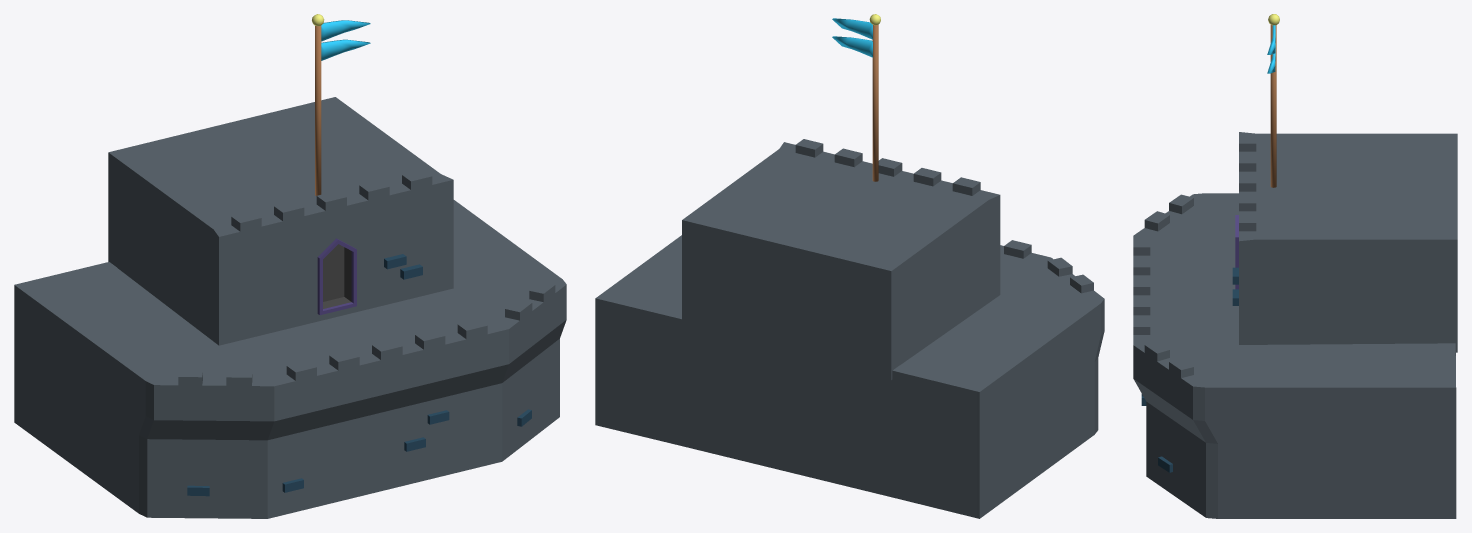
The model's file is castle.fbx.
3 renders of one model, left to right at view 1: azimuth 30°, elevation 25°; view 2: azimuth 150°, elevation 25°; view 3: azimuth 270°, elevation 25°, orthographic. The views are drawn at different scales.
Parts seen in each view (by area): view 1: castle, bricks, window, flagpole, flag, window_deco; view 2: castle, flagpole, flag; view 3: castle, flagpole, bricks.
Part boxes in pixels (x1=…): castle: x1=14, y1=97, x2=566, y2=518; bricks: x1=187, y1=254, x2=531, y2=496; window: x1=323, y1=244, x2=351, y2=308; flagpole: x1=315, y1=25, x2=321, y2=195; flag: x1=321, y1=20, x2=370, y2=60; window_deco: x1=317, y1=238, x2=356, y2=315; castle: x1=595, y1=139, x2=1104, y2=518; flagpole: x1=872, y1=25, x2=878, y2=181; flag: x1=832, y1=18, x2=872, y2=57; castle: x1=1133, y1=132, x2=1457, y2=518; flagpole: x1=1270, y1=25, x2=1276, y2=187; bricks: x1=1141, y1=267, x2=1238, y2=472.
Size of the model in its own units: 6356 by 6217 by 4485.
